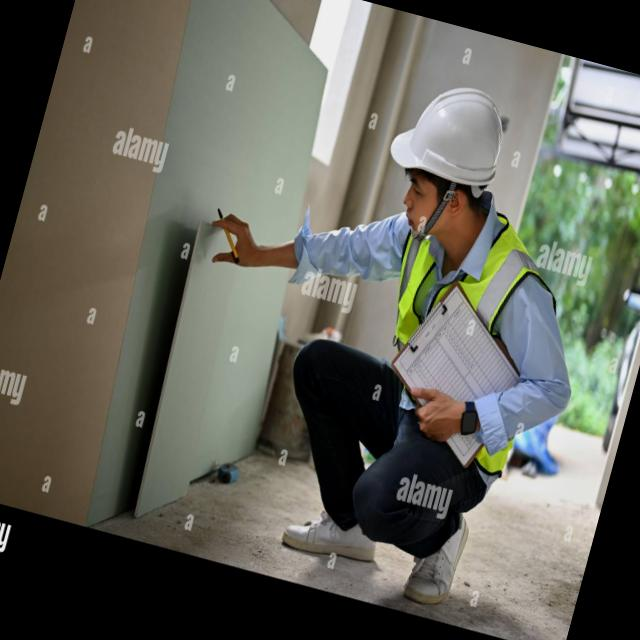helmet: (376, 64, 524, 211)
no-goggles: (384, 168, 471, 224)
vest: (342, 206, 580, 487)
